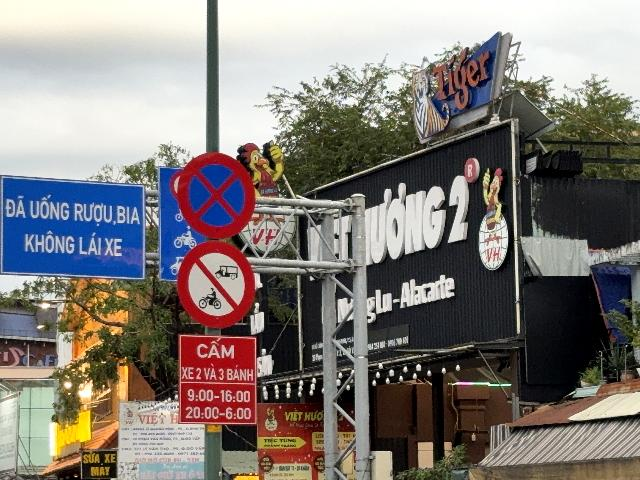cam-dung-va-do-xe: (177, 149, 255, 238)
cam-xe-2-banh-3-banh: (177, 239, 256, 329)
